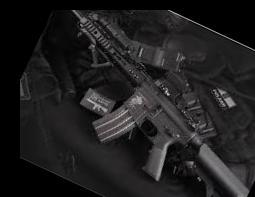larga: (69, 10, 251, 197)
